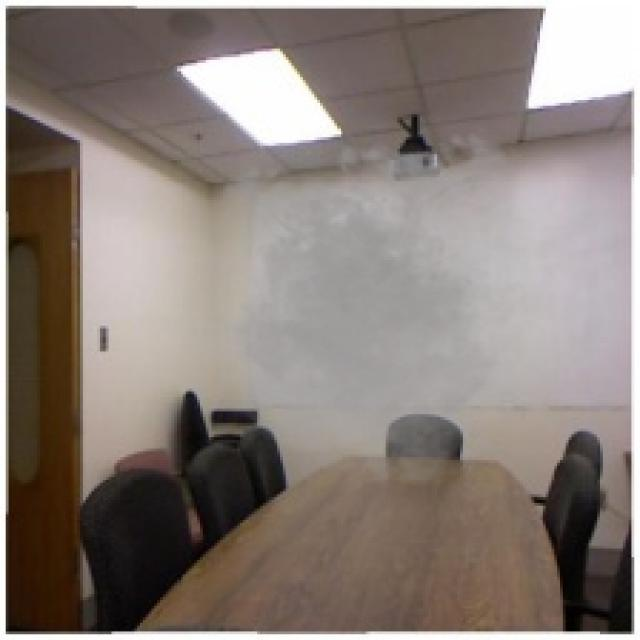smoke: (163, 123, 566, 491)
